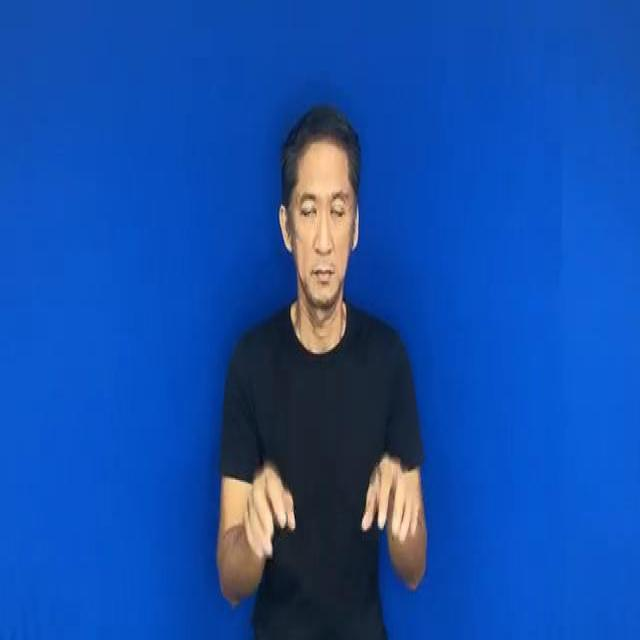egg: (223, 418, 420, 586)
